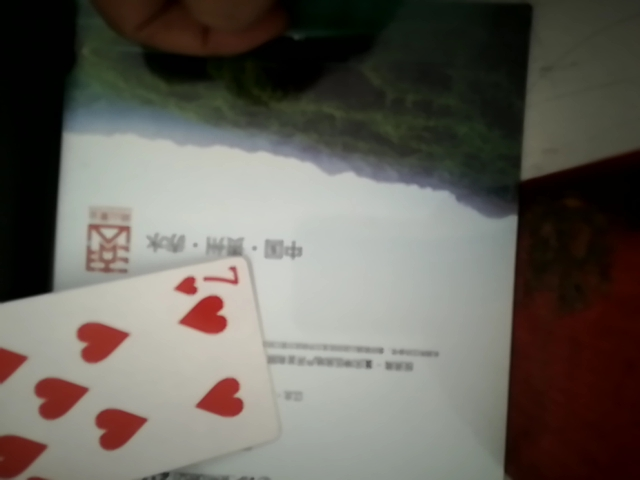hx 7: (0, 260, 282, 480)
